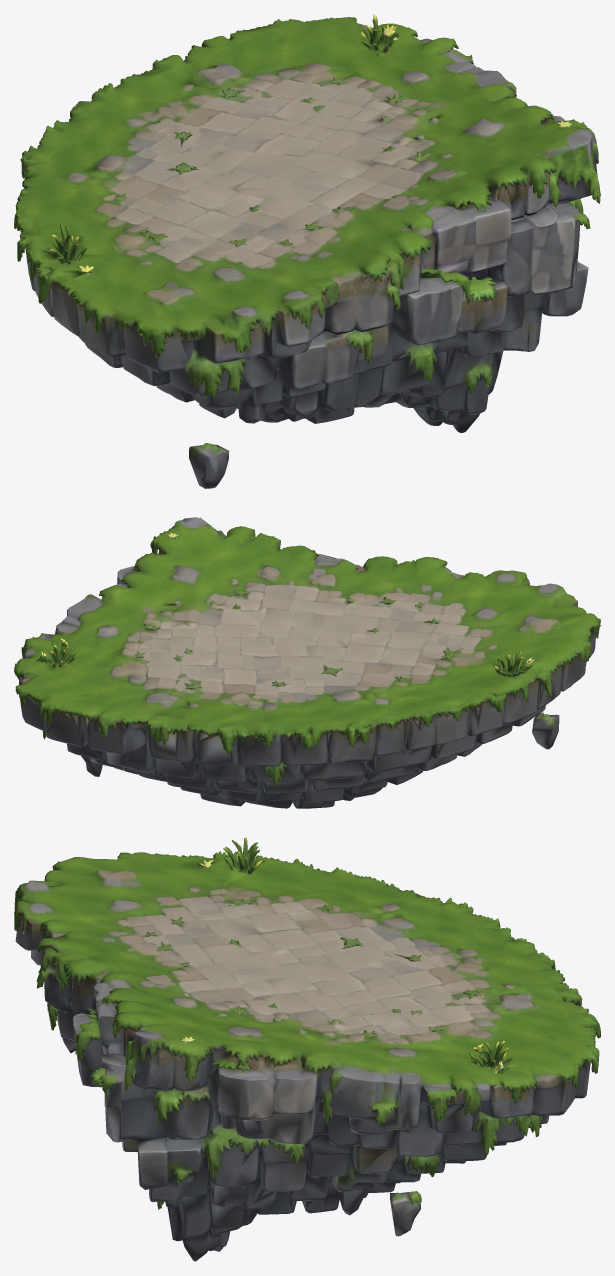
File: island-lite.glb
3 views of the same model, one above another, from view 1: azimuth 30°, elevation 25°; view 2: azimuth 150°, elevation 25°; view 3: azimuth 270°, elevation 25° (orthographic). The views are drawn at different scales.
Parts seen in each view (by area): view 1: tripo_node_a02264bc-14dd-4587-8488-bdd92dcfaa37; view 2: tripo_node_a02264bc-14dd-4587-8488-bdd92dcfaa37; view 3: tripo_node_a02264bc-14dd-4587-8488-bdd92dcfaa37.
Part boxes in pixels (x1,y1,x2,y2): tripo_node_a02264bc-14dd-4587-8488-bdd92dcfaa37: (14, 14, 600, 488); tripo_node_a02264bc-14dd-4587-8488-bdd92dcfaa37: (14, 517, 600, 808); tripo_node_a02264bc-14dd-4587-8488-bdd92dcfaa37: (14, 837, 600, 1261).
Size of the model in its own units: 4.93 by 2.5 by 4.94.
Materials: 1 (1 with a texture image).
